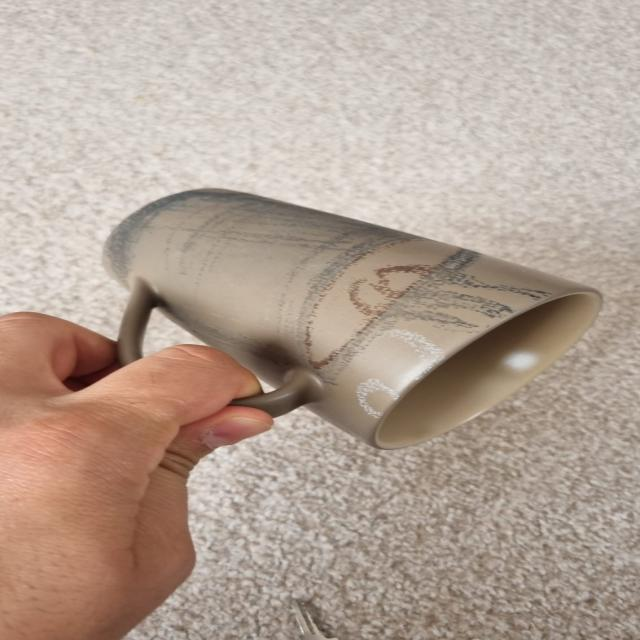Cup: (104, 189, 602, 450)
